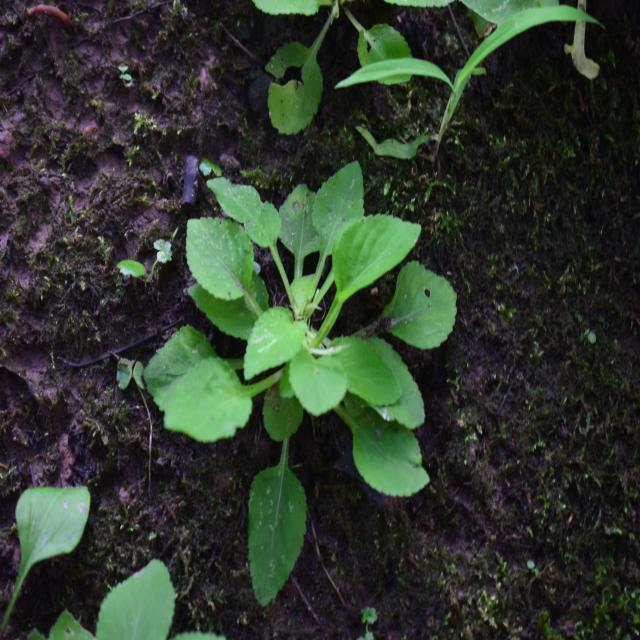Viola: (155, 138, 443, 536)
